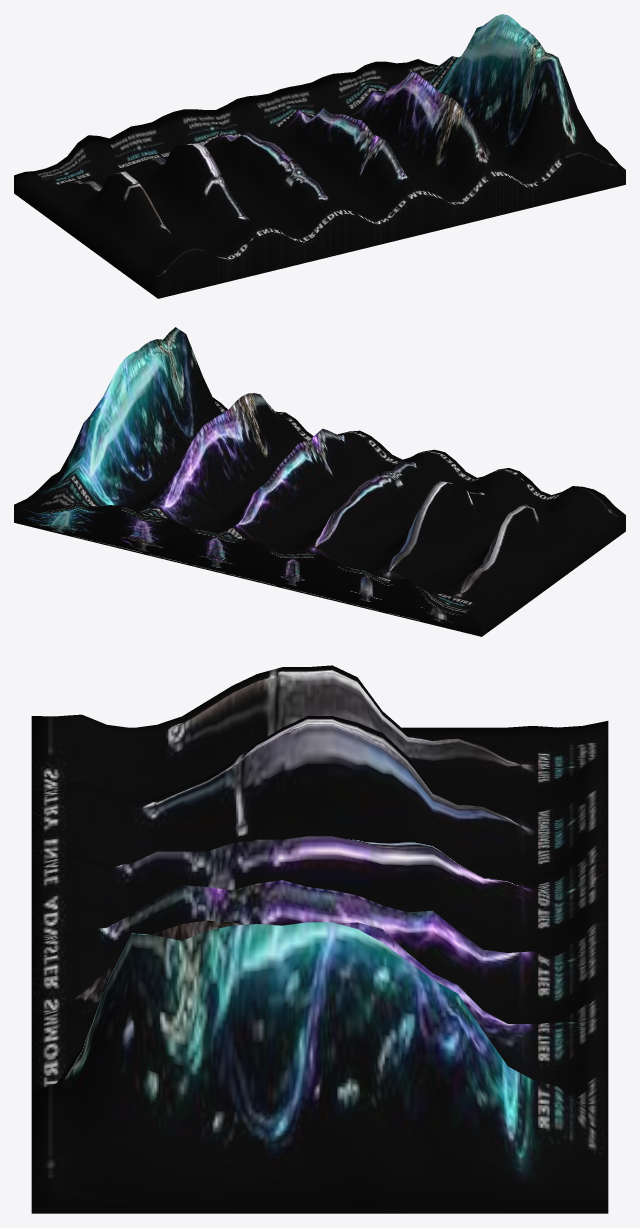
Rendered from ARSENAL_Sword_6Tier.glb.
The picture shows the model from 3 angles, top to bottom: view 1: azimuth 30°, elevation 25°; view 2: azimuth 150°, elevation 25°; view 3: azimuth 270°, elevation 25°; orthographic projection. The views are drawn at different scales.
Visible parts, largest first — view 1: ARSENAL_Sword_6Tier; view 2: ARSENAL_Sword_6Tier; view 3: ARSENAL_Sword_6Tier.
Part boxes in pixels (x1,y1,x2,y2): ARSENAL_Sword_6Tier: [14, 14, 625, 298]; ARSENAL_Sword_6Tier: [14, 327, 625, 636]; ARSENAL_Sword_6Tier: [31, 665, 608, 1213].
Bounding box in the file's own units: 2 × 0.51 × 1.07.
1 material, 1 textured.
